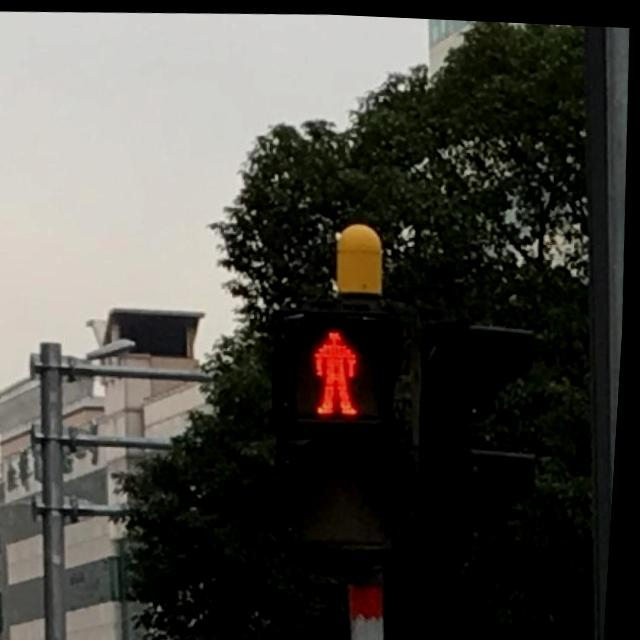red_light: (296, 311, 385, 419)
